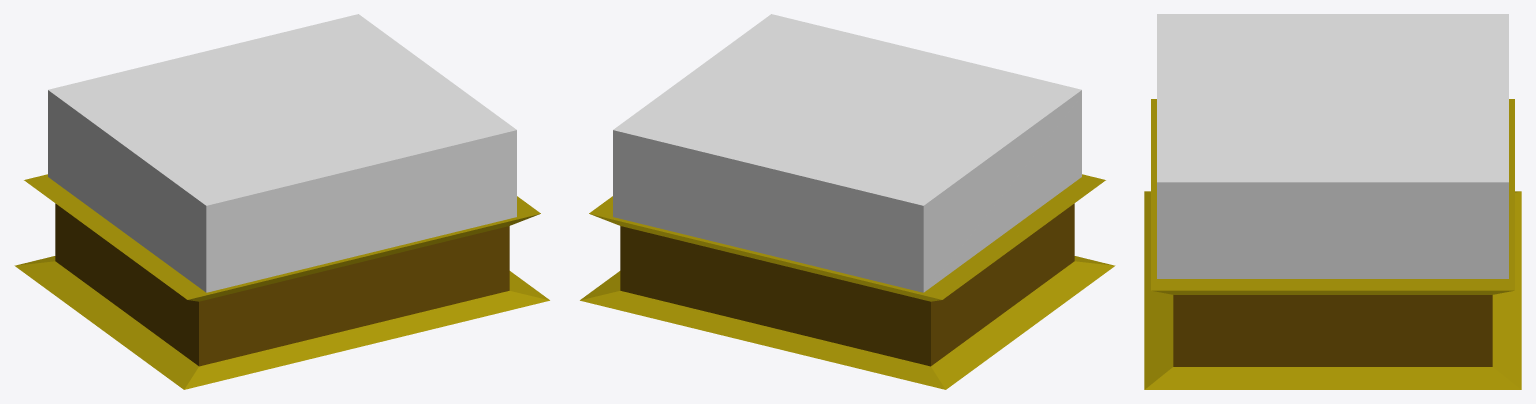
Rendered from Showing Case_Medium.fbx.
The picture shows the model from 3 angles, left to right: view 1: azimuth 30°, elevation 25°; view 2: azimuth 150°, elevation 25°; view 3: azimuth 270°, elevation 25°; orthographic projection. The views are drawn at different scales.
Parts seen in each view (by area): view 1: Showing_Case_2_pCube1; view 2: Showing_Case_2_pCube1; view 3: Showing_Case_2_pCube1.
Boxes of the visible parts, box(x1,y1,x2,y2) form: Showing_Case_2_pCube1: box(14, 14, 549, 389); Showing_Case_2_pCube1: box(580, 14, 1115, 389); Showing_Case_2_pCube1: box(1144, 14, 1521, 389).
Size of the model in its own units: 14.49 by 6.55 by 11.62.
